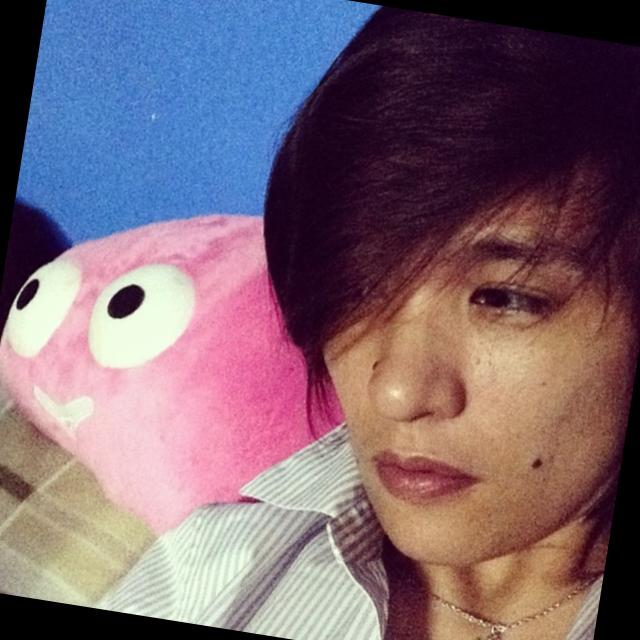Toy: (0, 175, 375, 584)
